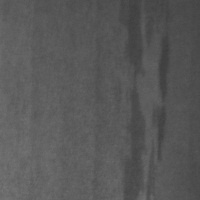inclusion: (117, 0, 173, 199)
